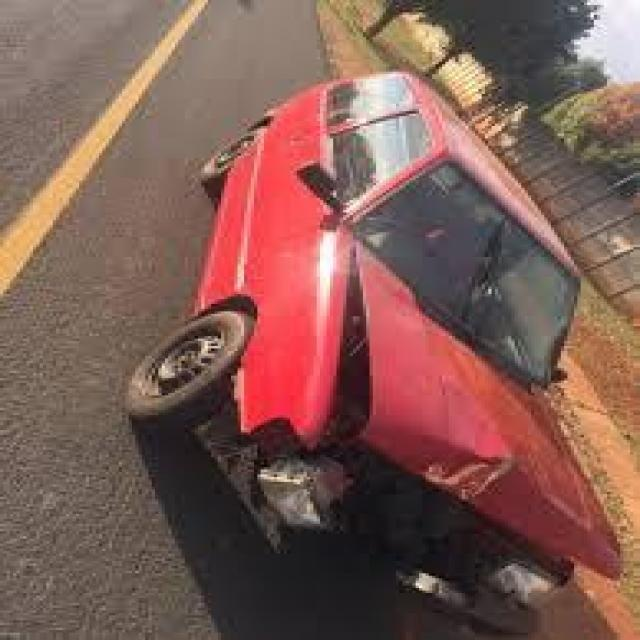damaged: (208, 245, 630, 618)
